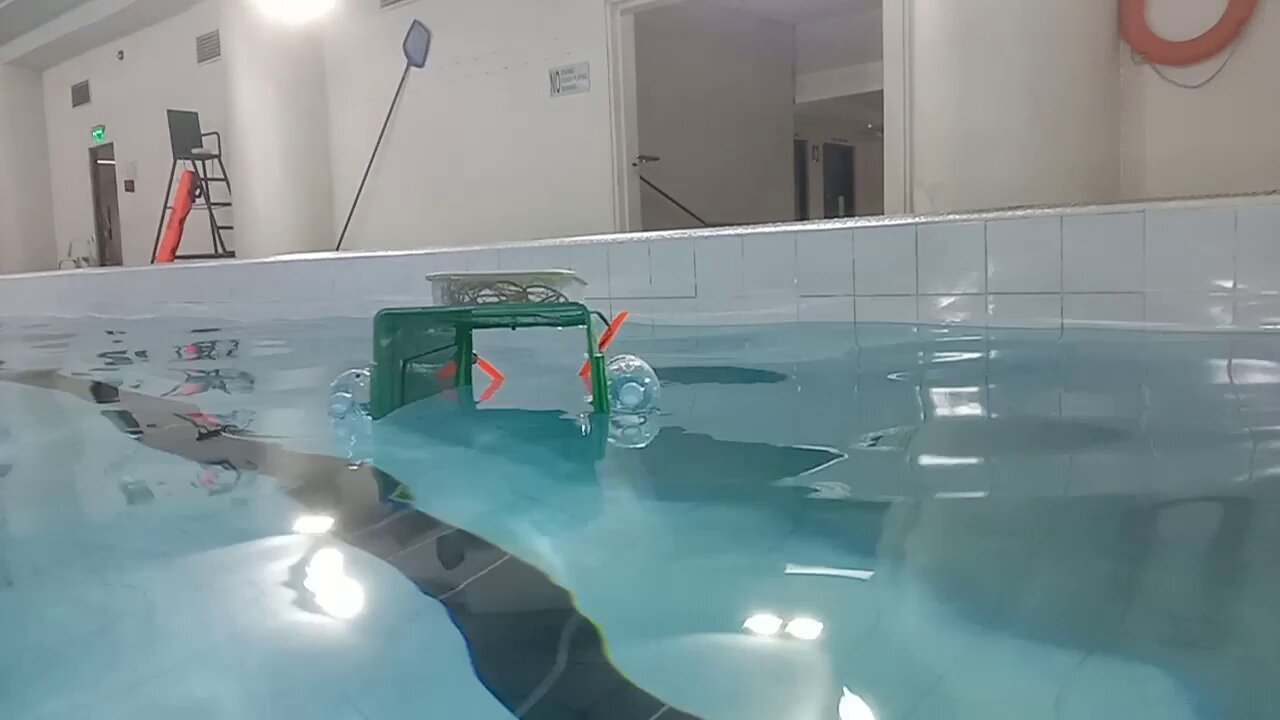drone: (324, 266, 666, 445)
